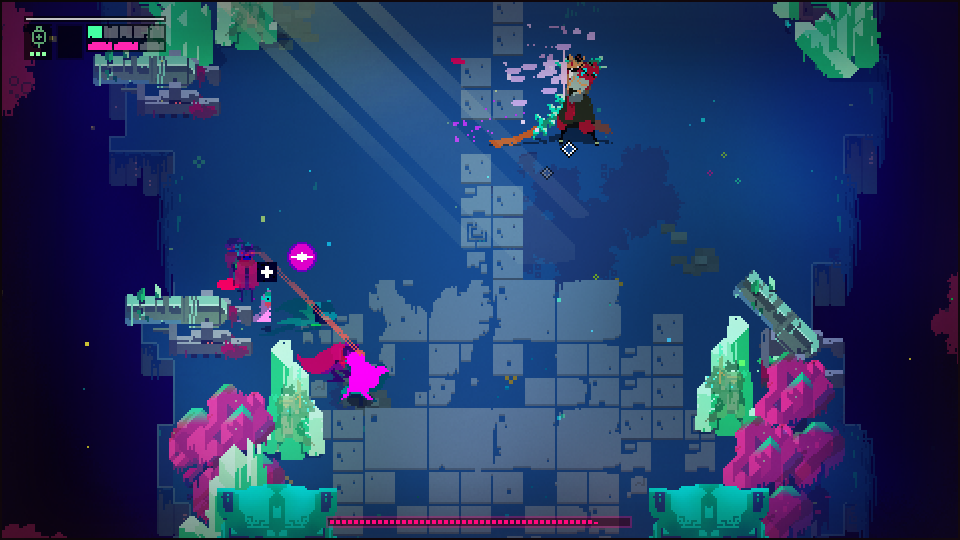hanged_man: (529, 50, 612, 157)
hanged_shot: (287, 240, 317, 273)
player: (344, 350, 386, 403)
